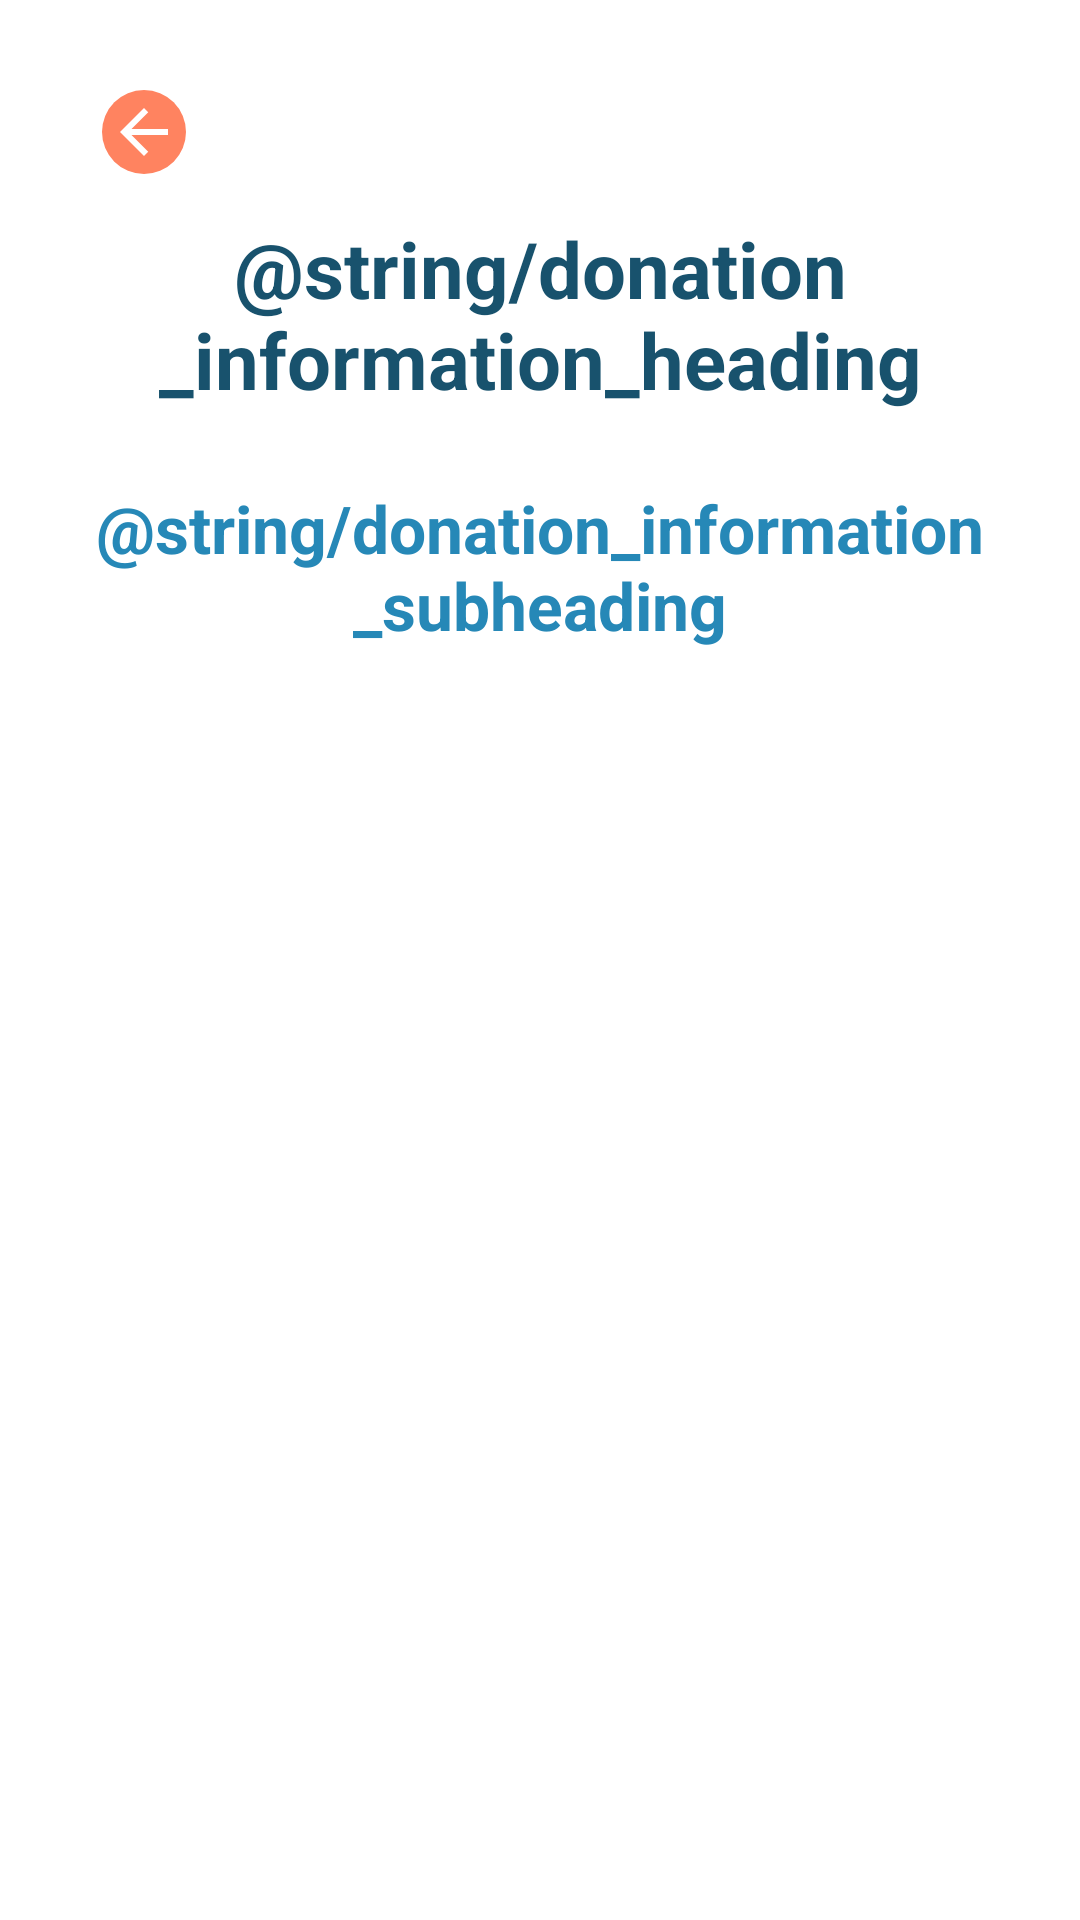

Point at icon controls on the screen. Image size 1080x1920, points as point (x, y).
back: point (144, 132)
